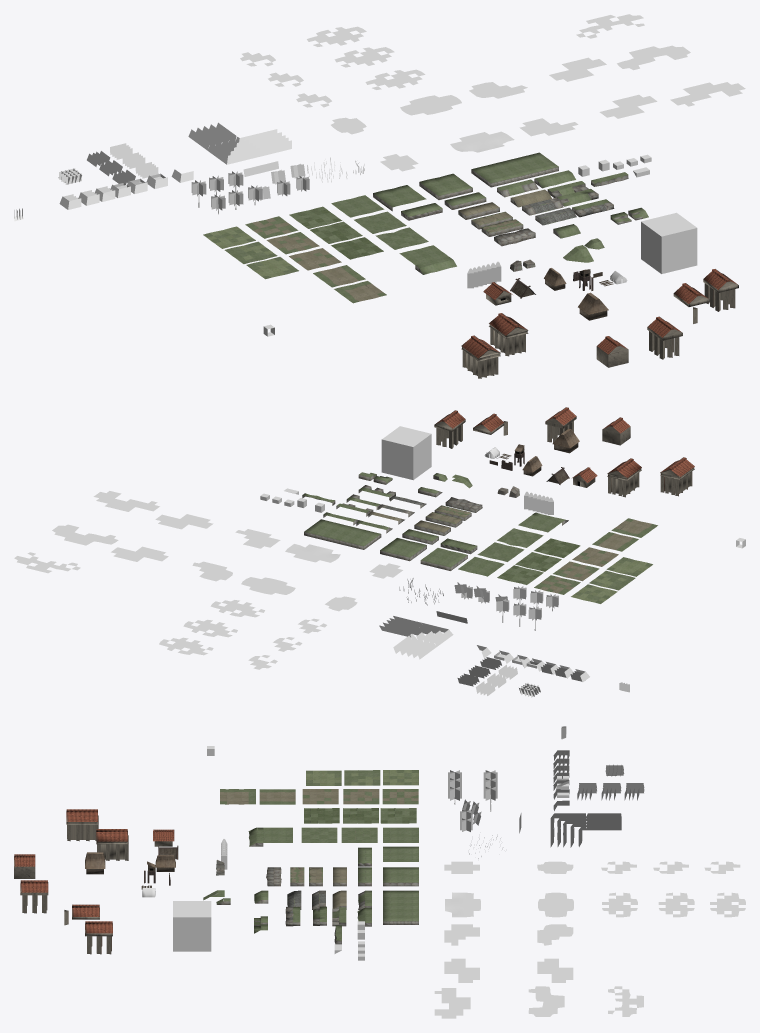
The model's file is Field.fbx.
The picture shows the model from 3 angles, top to bottom: view 1: azimuth 30°, elevation 25°; view 2: azimuth 150°, elevation 25°; view 3: azimuth 270°, elevation 25°; orthographic projection. The views are drawn at different scales.
Parts seen in each view (by area): view 1: Cube.034, Cube.002, RomanBigHouse, RomanMapCity, Plane.003, Cube.016, FieldTile, Cube.029, Cube.021, Cube.022, Cube.030, Plane.004 (+27 smaller); view 2: Cube.034, Cube.002, RomanBigHouse, Cube.016, FieldTile_Main_Opti, FieldTile, Cube.029, Cube.022, Cube.021, Cube.030, RomanMapCity, Plane.005 (+26 smaller); view 3: Cube.034, Cube.002, RomanBigHouse, Cube.016, RomanMapCity, Cube.029, Cube.022, Cube.021, FieldTile, Cube.030, Plane.005, Cube.026 (+25 smaller).
Boxes of the visible parts, x1=… form: Cube.034: x1=641, y1=212, x2=697, y2=273; Cube.002: x1=471, y1=152, x2=558, y2=187; RomanBigHouse: x1=461, y1=335, x2=500, y2=378; RomanMapCity: x1=647, y1=316, x2=682, y2=359; Plane.003: x1=208, y1=137, x2=259, y2=164; Cube.016: x1=489, y1=313, x2=528, y2=354; FieldTile: x1=419, y1=173, x2=472, y2=199; Cube.029: x1=617, y1=45, x2=690, y2=70; Cube.021: x1=450, y1=131, x2=514, y2=152; Cube.022: x1=670, y1=82, x2=745, y2=106; Cube.030: x1=400, y1=95, x2=461, y2=115; Plane.004: x1=243, y1=129, x2=291, y2=156; Cube.034: x1=381, y1=426, x2=431, y2=480; Cube.002: x1=304, y1=519, x2=381, y2=549; RomanBigHouse: x1=660, y1=457, x2=694, y2=496; Cube.016: x1=607, y1=458, x2=641, y2=494; FieldTile_Main_Opti: x1=420, y1=548, x2=467, y2=570; FieldTile: x1=380, y1=538, x2=426, y2=561; Cube.029: x1=52, y1=524, x2=118, y2=545; Cube.022: x1=93, y1=491, x2=159, y2=511; Cube.021: x1=285, y1=544, x2=340, y2=562; Cube.030: x1=241, y1=577, x2=295, y2=594; RomanMapCity: x1=545, y1=407, x2=576, y2=442; Plane.005: x1=393, y1=635, x2=436, y2=659; Cube.034: x1=173, y1=901, x2=211, y2=951; Cube.002: x1=383, y1=890, x2=418, y2=924; RomanBigHouse: x1=66, y1=809, x2=98, y2=841; Cube.016: x1=96, y1=829, x2=127, y2=859; RomanMapCity: x1=20, y1=880, x2=48, y2=913; Cube.029: x1=528, y1=986, x2=564, y2=1016; Cube.022: x1=434, y1=988, x2=470, y2=1018; Cube.021: x1=445, y1=892, x2=480, y2=917; FieldTile: x1=383, y1=867, x2=418, y2=886; Cube.030: x1=538, y1=892, x2=573, y2=917; Plane.005: x1=586, y1=813, x2=621, y2=830; Cube.026: x1=537, y1=958, x2=573, y2=982.
Size of the model in its own units: 19590 by 1238 by 20225.
